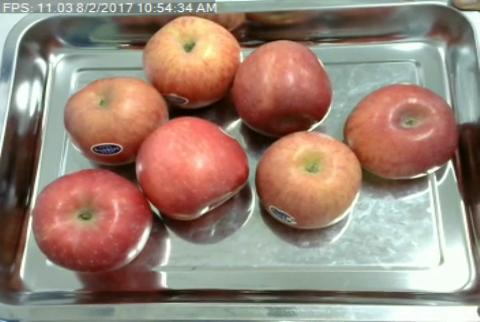apple: (32, 169, 153, 271), (139, 117, 246, 218), (343, 84, 458, 176), (257, 133, 361, 230), (64, 77, 170, 164), (142, 15, 239, 107), (234, 40, 329, 133)
